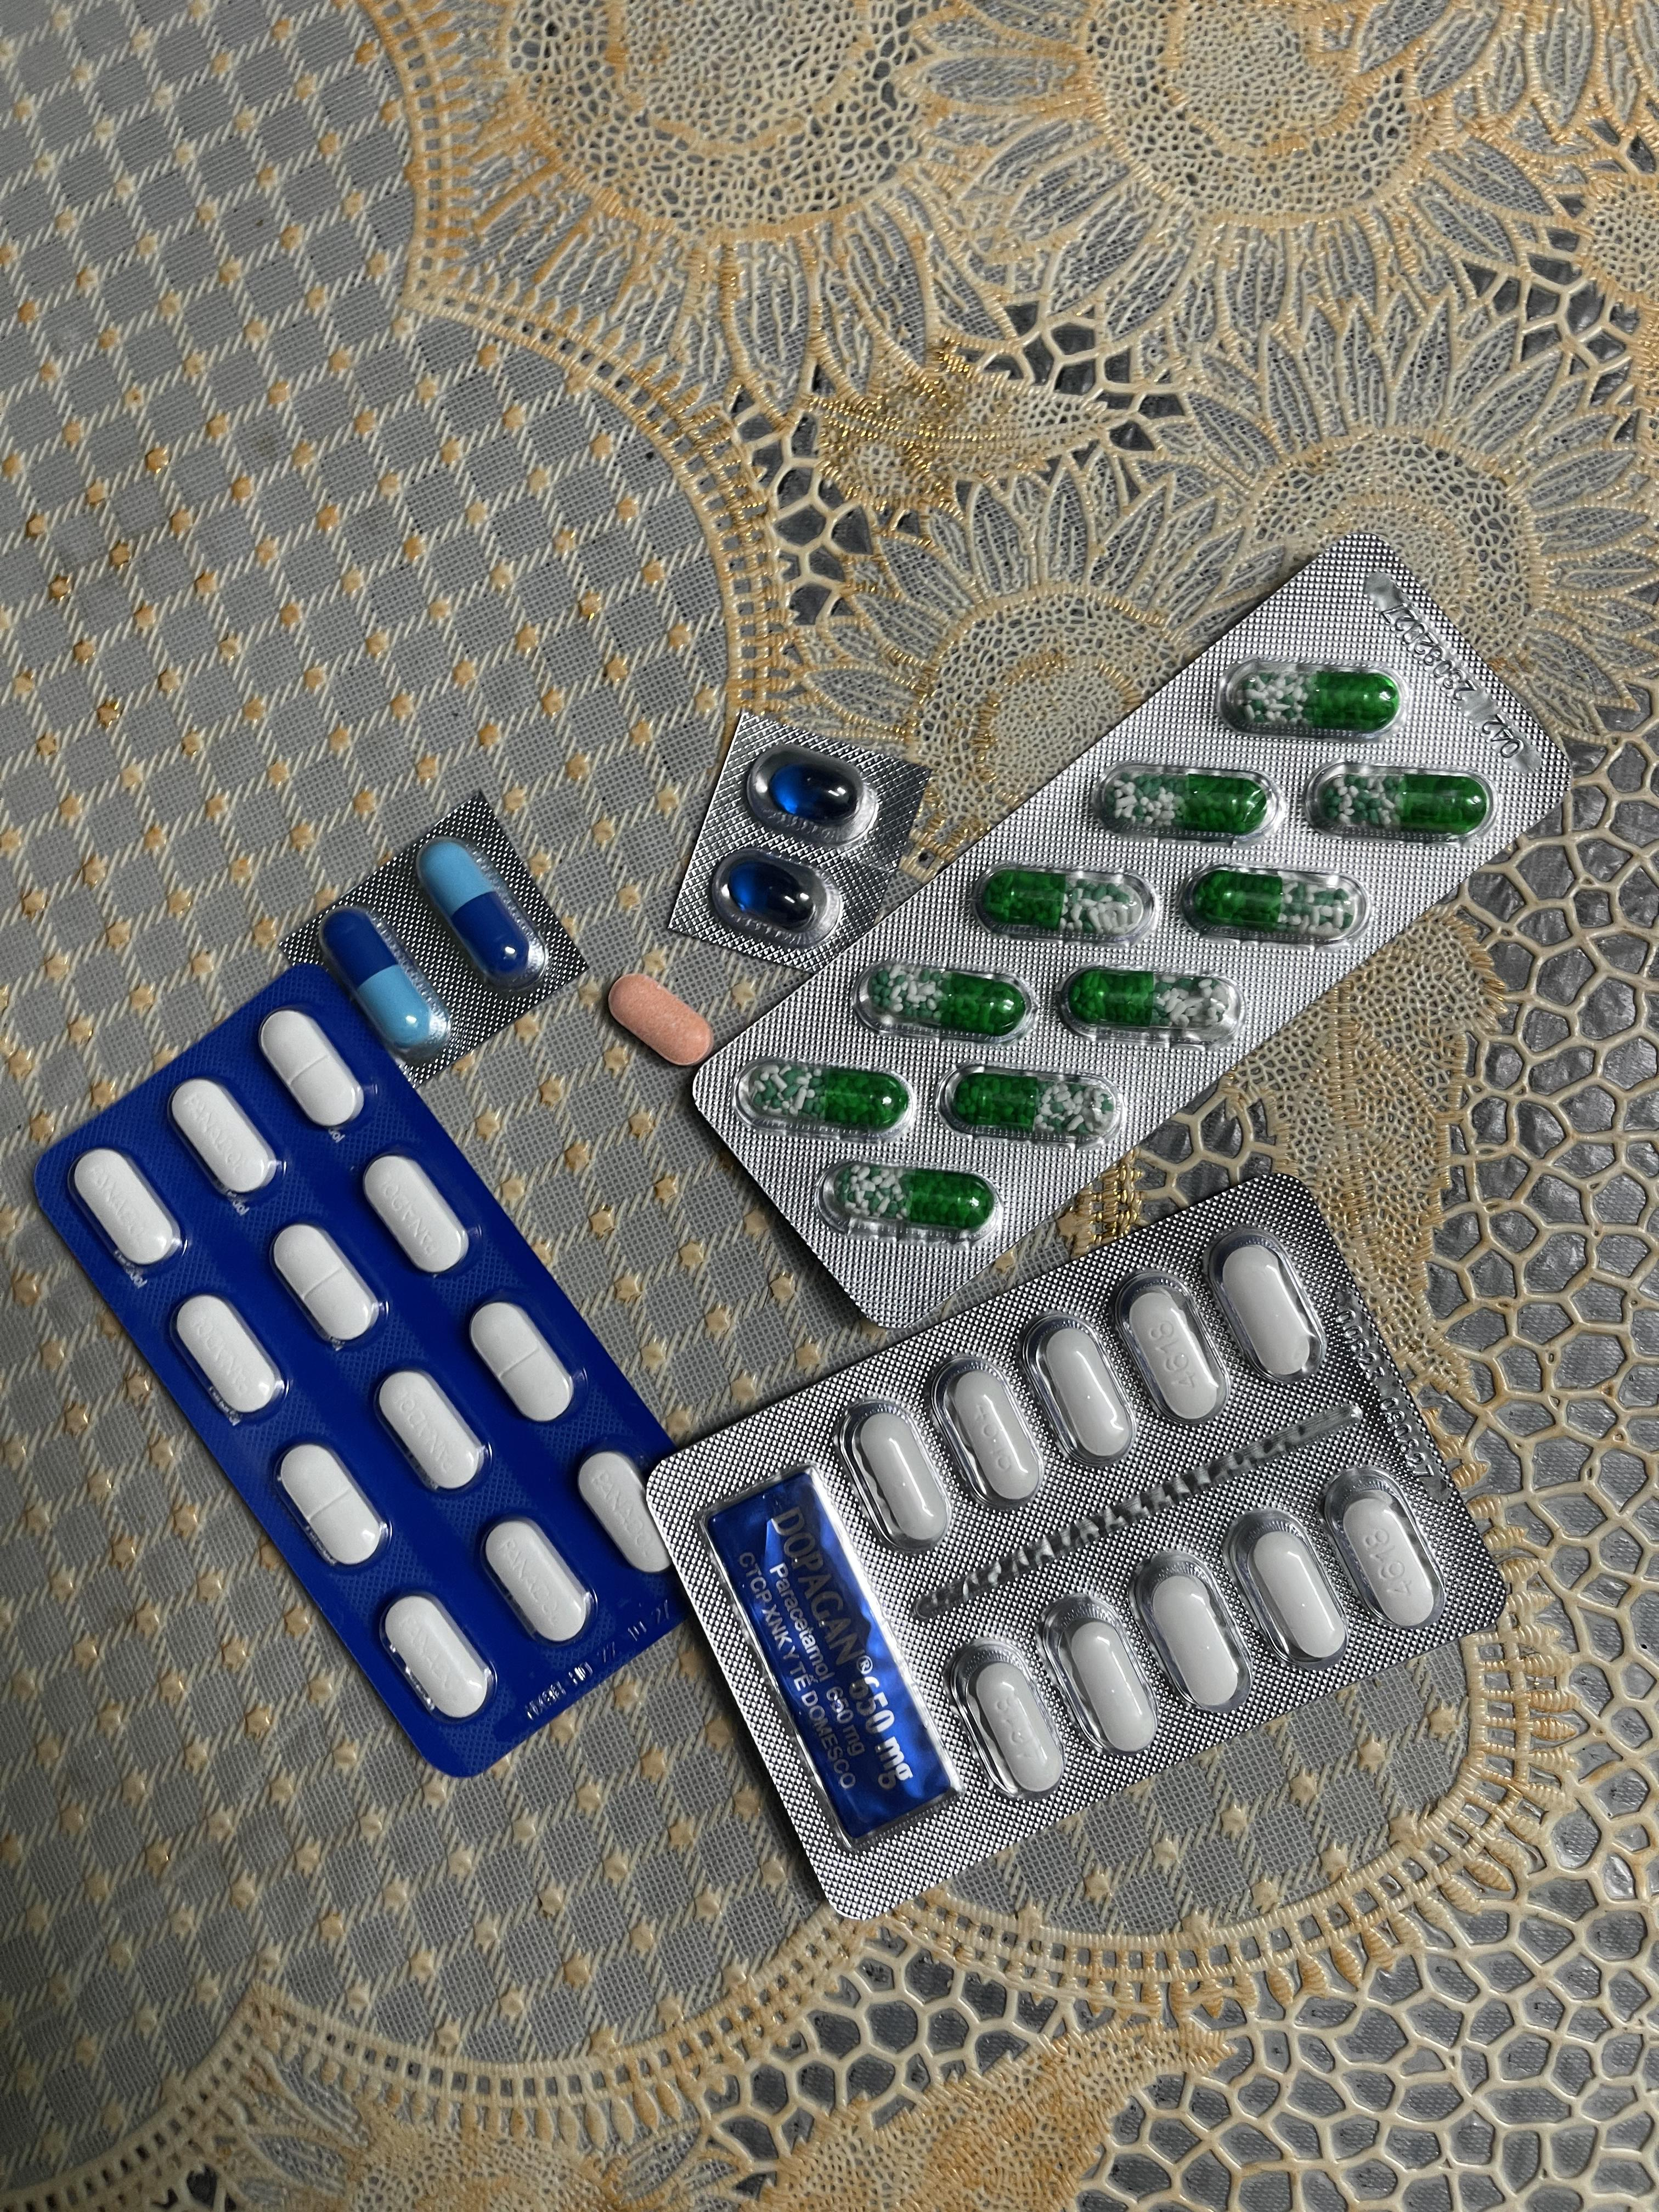Lincomyxin_500mg: (728, 862, 816, 925), (771, 760, 857, 817)
Loratadine_10mg: (606, 973, 711, 1066)
Paracetamol_350mg: (174, 1294, 290, 1427), (480, 1515, 595, 1645), (381, 1592, 495, 1720), (275, 1440, 385, 1567), (377, 1368, 488, 1492), (272, 1223, 382, 1345), (72, 1149, 182, 1270), (469, 1301, 575, 1423), (170, 1077, 281, 1193), (363, 1157, 470, 1276), (257, 1011, 364, 1124), (576, 1451, 667, 1572)
Paracetamol_500mg: (1322, 1466, 1449, 1638), (1124, 1548, 1246, 1725), (1229, 1505, 1350, 1675), (944, 1640, 1065, 1803), (1104, 1270, 1224, 1432), (1207, 1222, 1329, 1383), (932, 1352, 1052, 1510), (1038, 1592, 1152, 1757), (1022, 1313, 1140, 1469), (839, 1393, 953, 1549)
Paracetamol_650mg: (823, 1160, 995, 1240), (738, 1060, 900, 1139), (1190, 873, 1357, 935), (1238, 668, 1400, 731), (955, 1068, 1110, 1134), (1070, 969, 1226, 1034), (985, 872, 1143, 936), (871, 968, 1024, 1033), (1322, 772, 1484, 833), (1103, 774, 1261, 834)
pill: (321, 910, 448, 1054), (417, 841, 539, 989)
